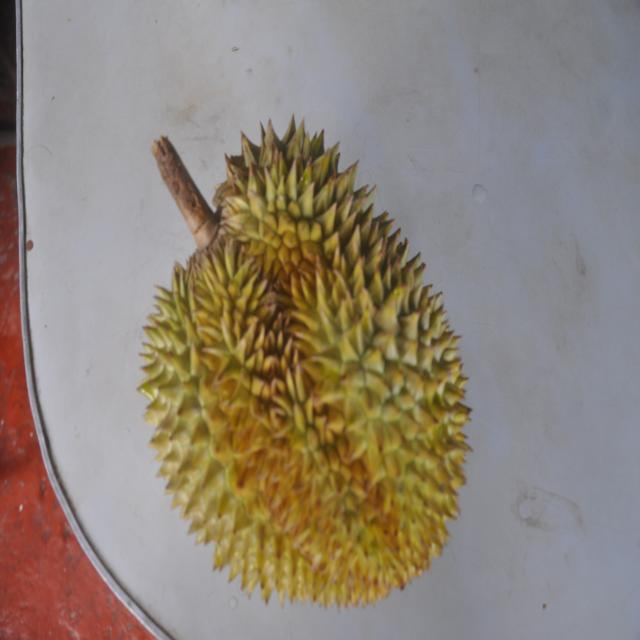mature: (135, 110, 463, 608)
